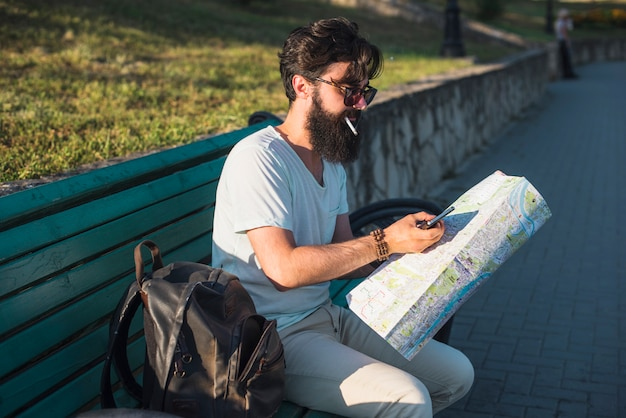cigarette: (344, 116, 358, 137)
